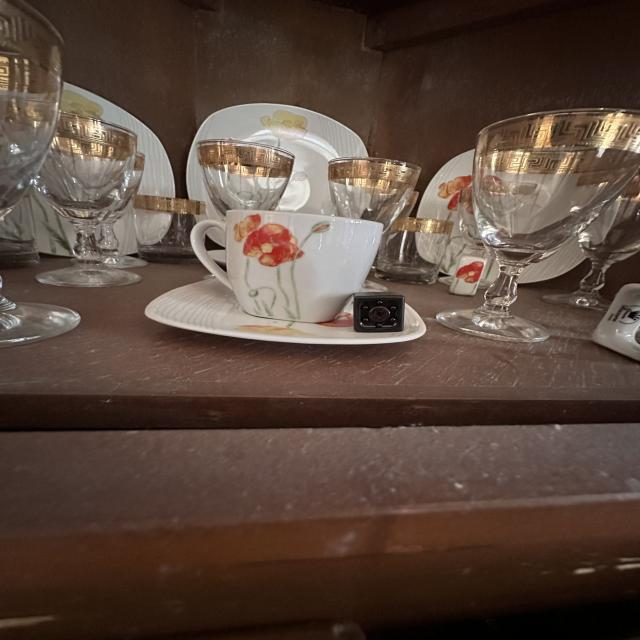hidden camera: (371, 307, 390, 322)
